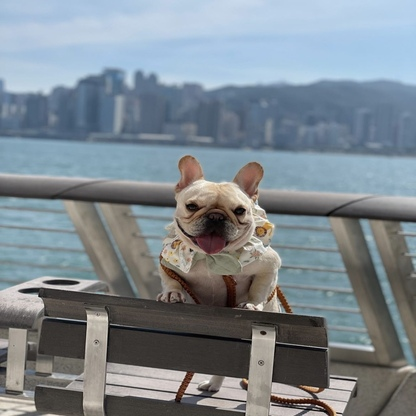bulldog: (157, 153, 281, 318)
